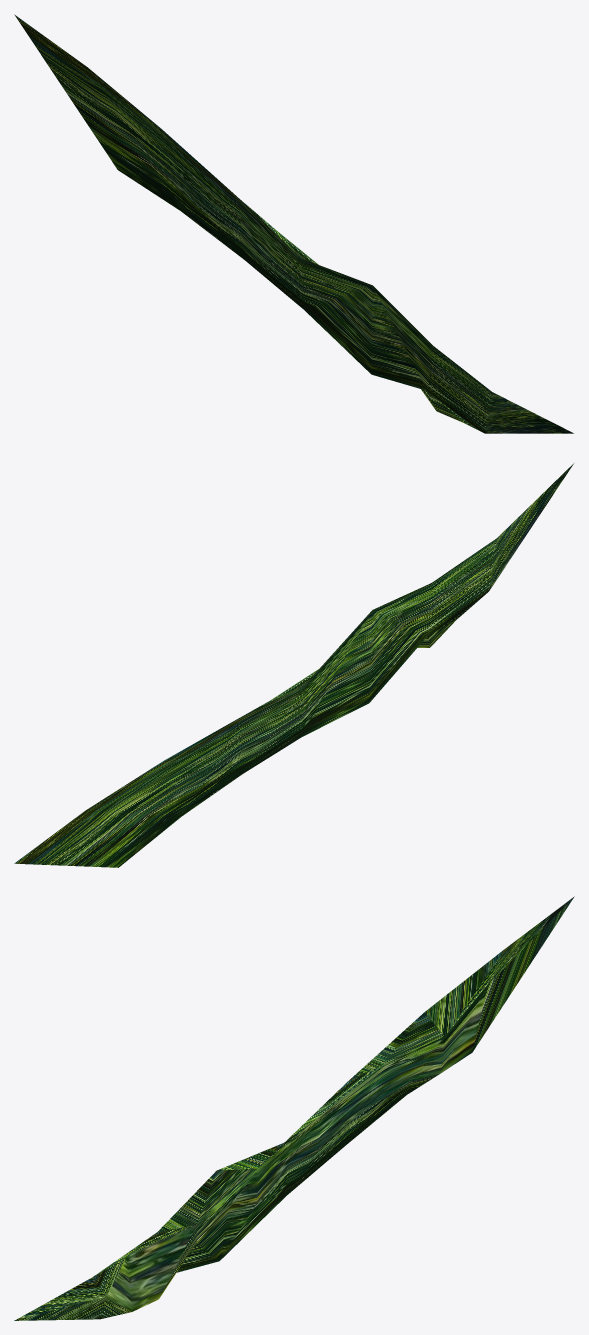
3 views of the same model, one above another, from view 1: azimuth 30°, elevation 25°; view 2: azimuth 150°, elevation 25°; view 3: azimuth 330°, elevation 25° (orthographic).
Visible parts, largest first — view 1: algae_cube_Cube; view 2: algae_cube_Cube; view 3: algae_cube_Cube.
Boxes of the visible parts, x1,y1,x2,y2 form: algae_cube_Cube: (14,14,573,433); algae_cube_Cube: (14,463,573,867); algae_cube_Cube: (14,896,574,1320).
Size of the model in its own units: 0.0153 by 0.233 by 2.33.
